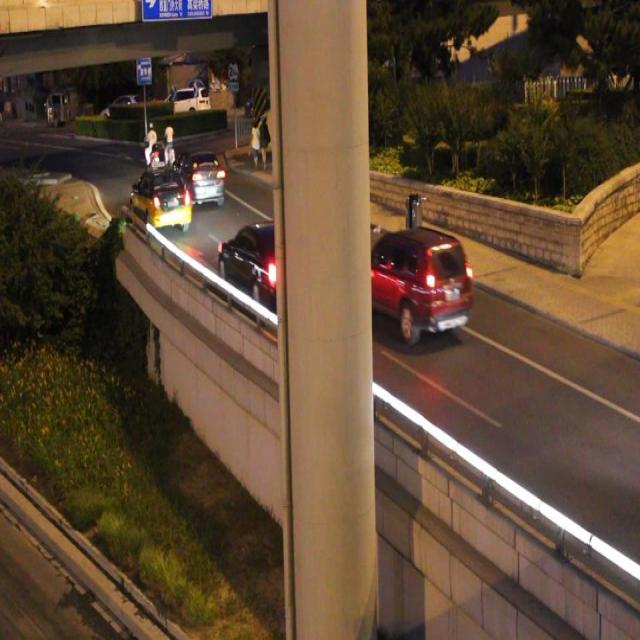car: (347, 225, 472, 343), (217, 219, 310, 311), (130, 162, 192, 230), (182, 148, 225, 206)
